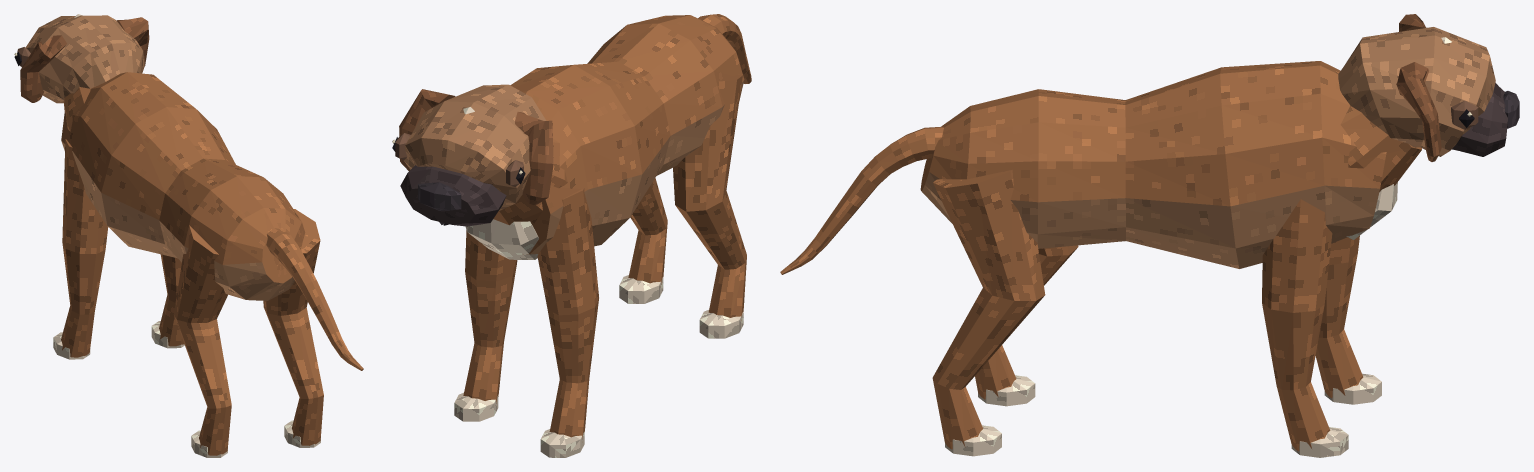
File: mon_dog_boxer.glb
3 renders of one model, left to right at view 1: azimuth 30°, elevation 25°; view 2: azimuth 150°, elevation 25°; view 3: azimuth 270°, elevation 25°, orthographic. The views are drawn at different scales.
Visible parts, largest first — view 1: closed_body; view 2: closed_body; view 3: closed_body.
Part boxes in pixels (box(x1,y1,x2,y2)): closed_body: box(14, 14, 363, 457); closed_body: box(392, 14, 751, 457); closed_body: box(780, 14, 1519, 457).
Size of the model in its own units: 0.3388 by 0.7696 by 1.31.
Materials: 1 (1 with a texture image).
